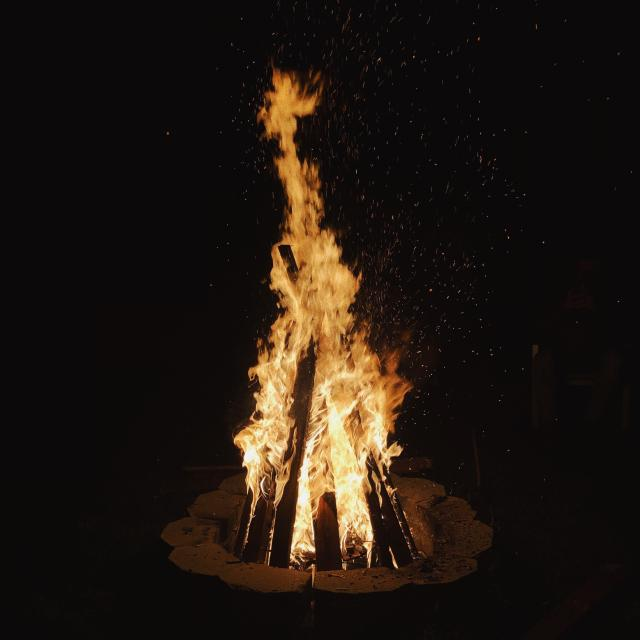fire: (227, 65, 442, 586)
